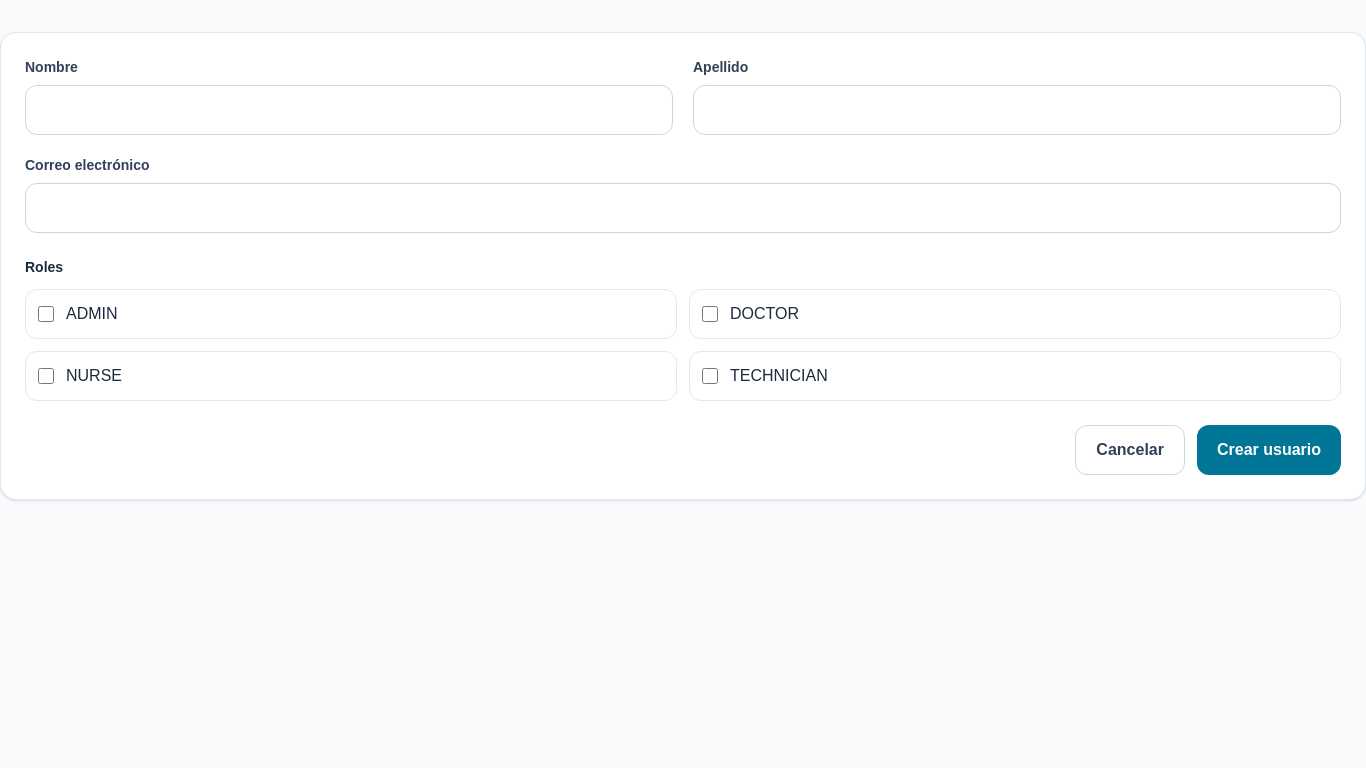
Scenario: NewUserForm › rechaza un email inválido
This screenshot has width=1366, height=768.
In the field labelled "Correo electrónico": (683, 208) [25,183,1341,233], type "doctor@hospital.com"
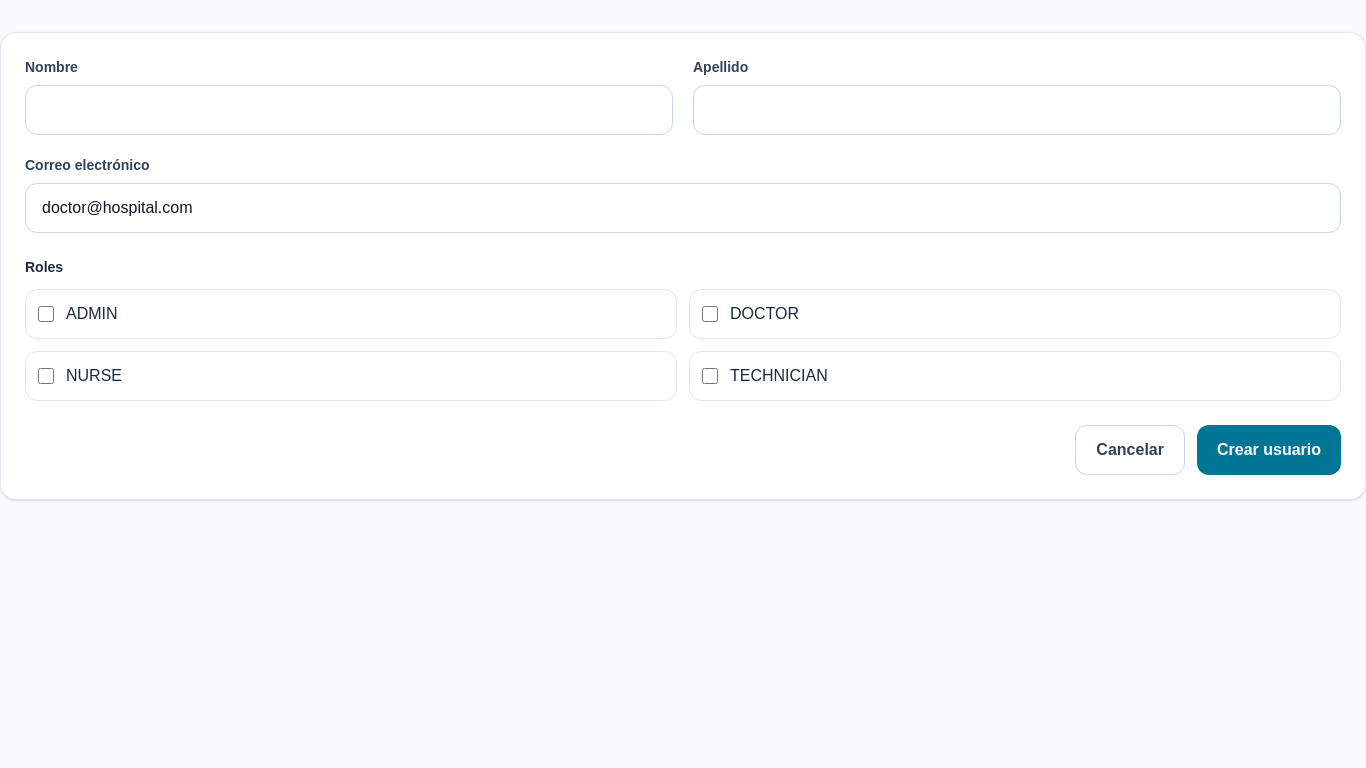
In the field labelled "Nombre": (349, 110) [25,85,673,135], type "Juan"
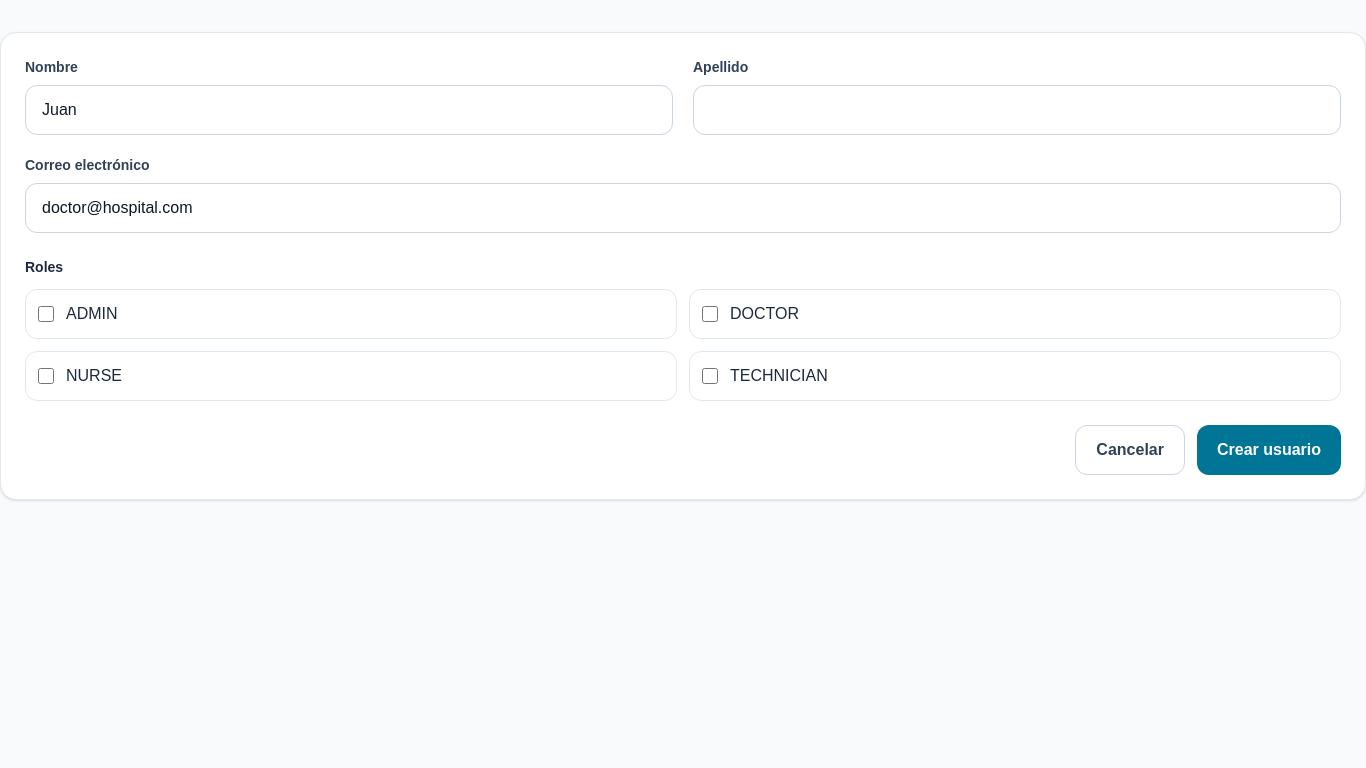
In the field labelled "Apellido": (1017, 110) [693,85,1341,135], type "Pérez"
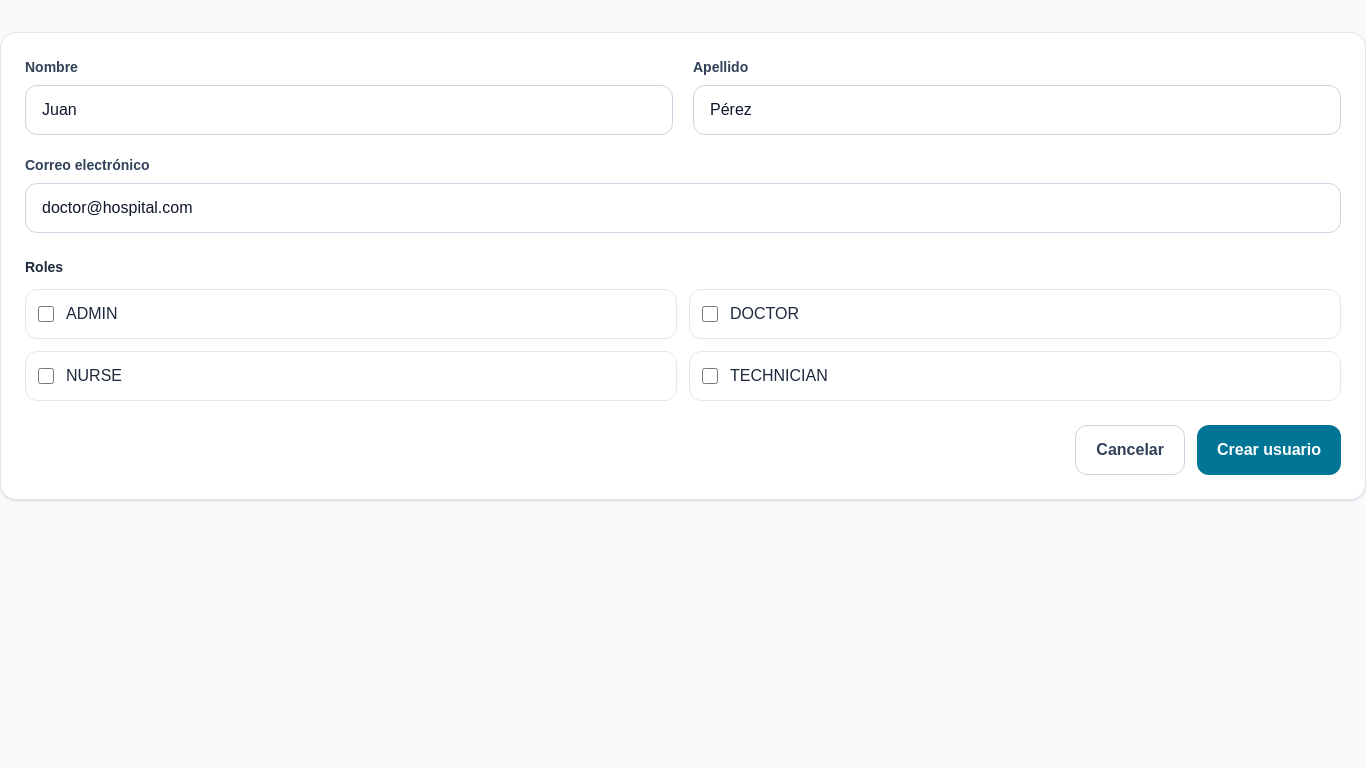
Click the checkbox labelled "DOCTOR": (710, 314) [702,306,718,322]
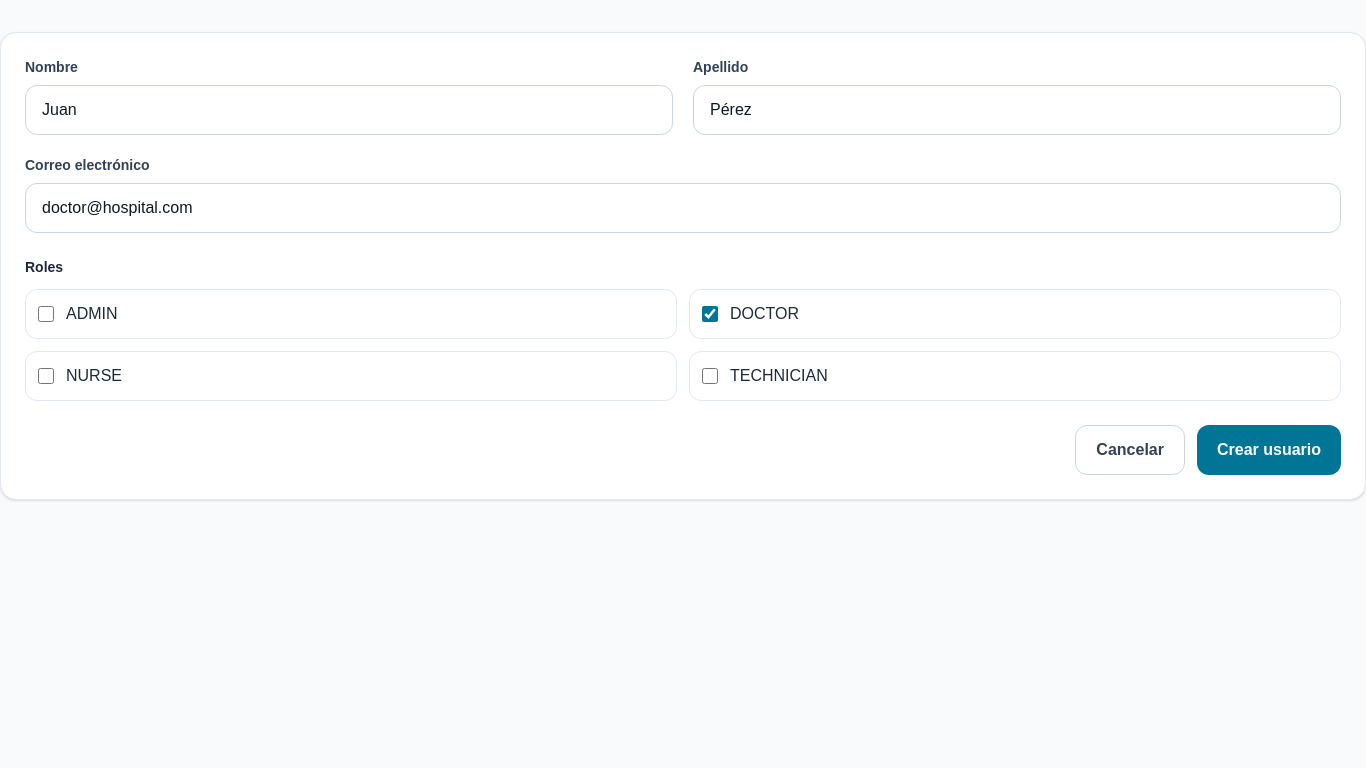
Replace the text in the field labelled "Correo electrónico" with "invalido": (683, 208) [25,183,1341,233]
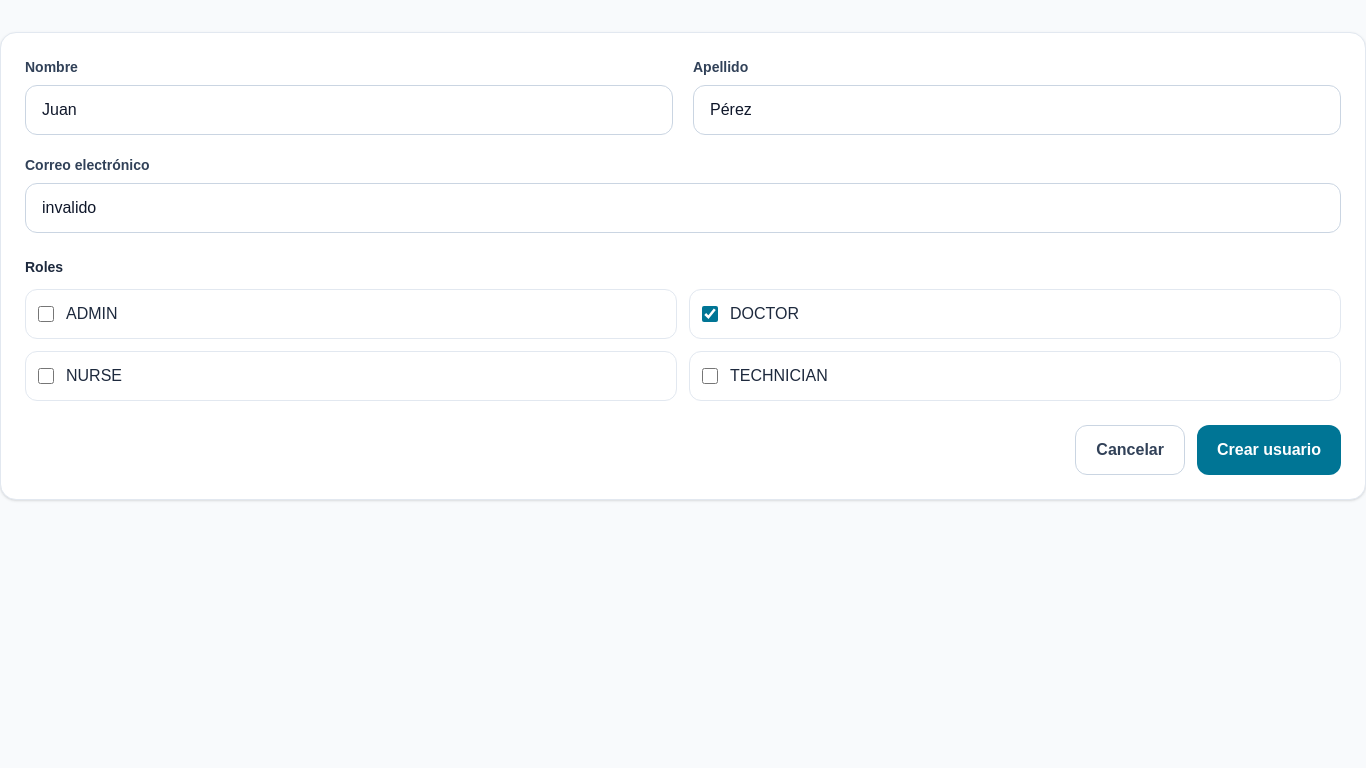
Submit the form named "Crear usuario"
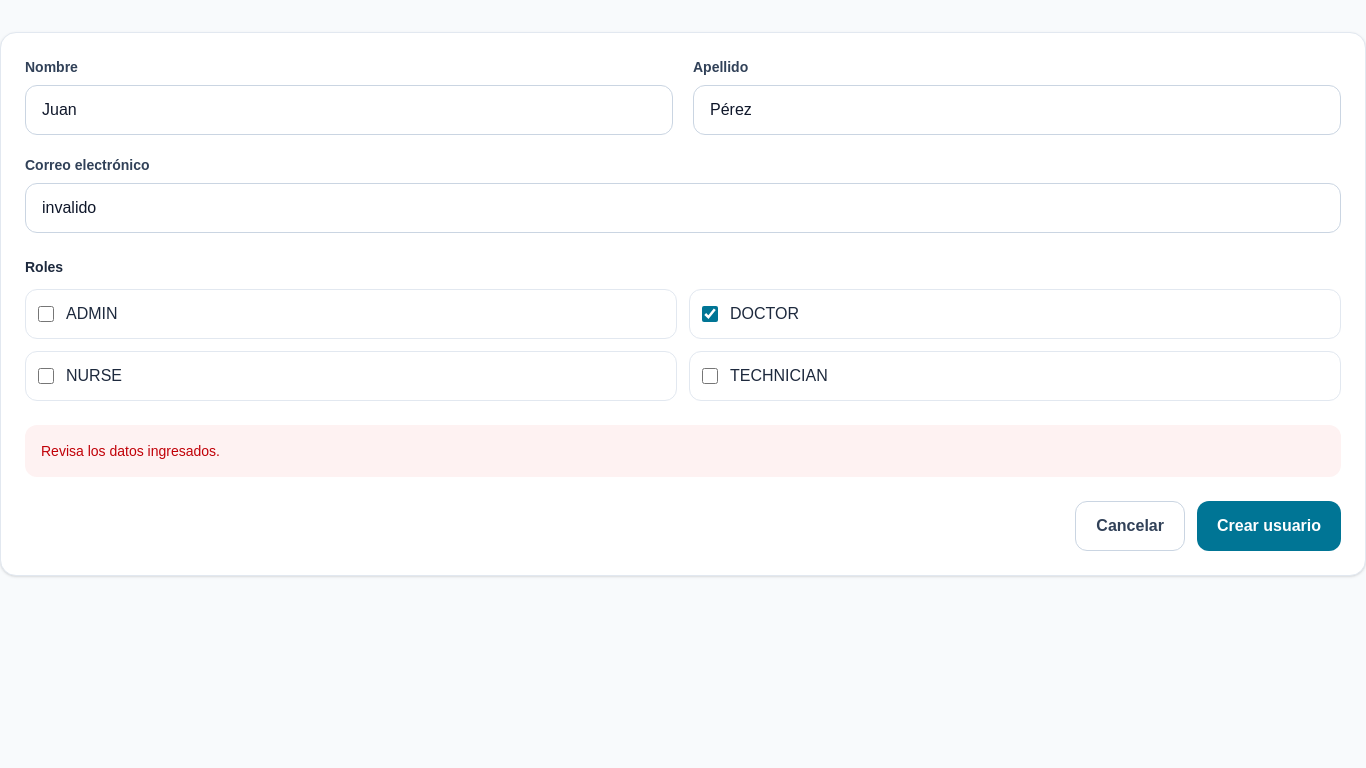
Expected: the message reads "Revisa los datos ingresados.", [41,443,220,459]
